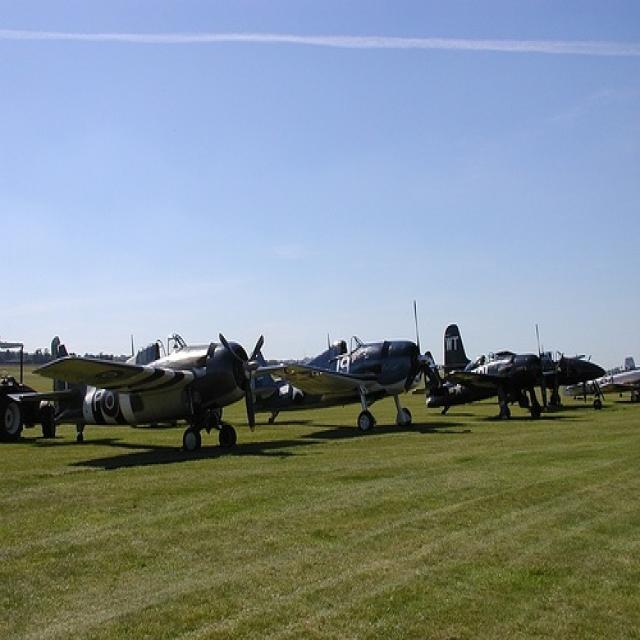aeroplane: (30, 336, 264, 454), (248, 333, 430, 435), (444, 324, 606, 410), (421, 350, 548, 420), (564, 357, 638, 408)
